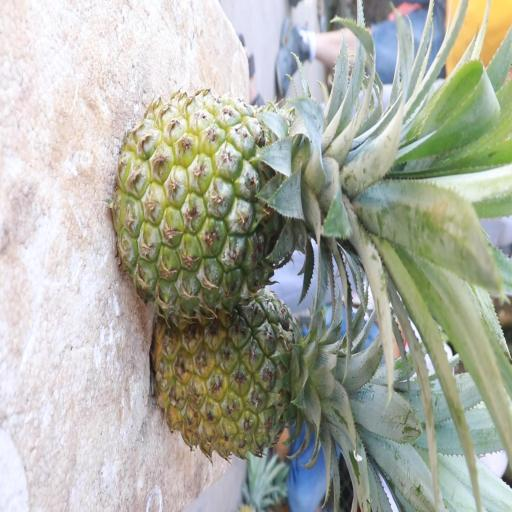------------------------------: (112, 83, 354, 312)
Pineapple - v8 v1: (152, 287, 332, 484)
